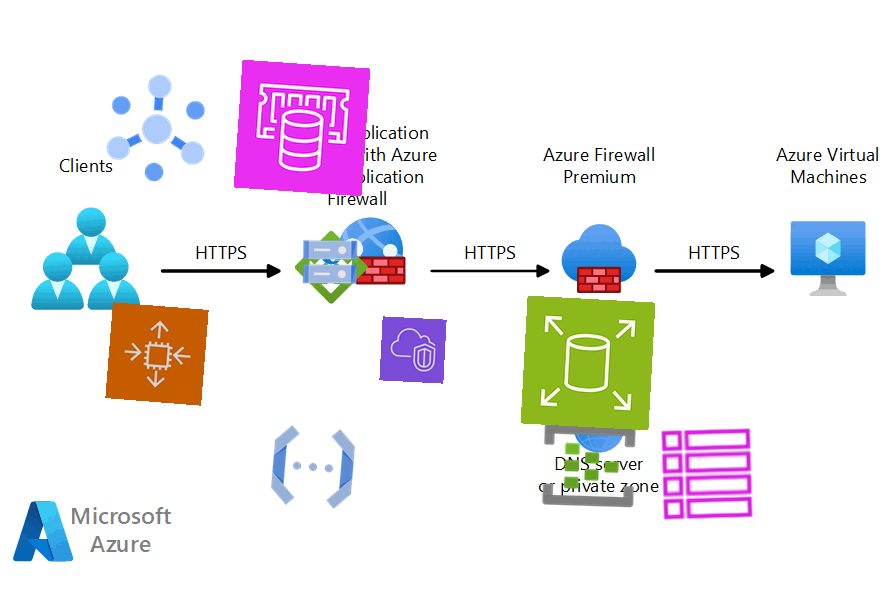aws_amazon_ec2_auto_scaling: (105, 302, 209, 406)
aws_amazon_elastic_block_store: (520, 295, 656, 431)
aws_amazon_elasticache: (233, 59, 371, 197)
aws_amazon_virtual_private_cloud: (379, 316, 447, 384)
aws_dynamodb_table: (657, 424, 757, 524)
azure_event_hubs: (539, 415, 639, 515)
gcp_cloud_functions: (261, 415, 365, 519)
gcp_cloud_storage: (297, 229, 363, 295)
gcp_pubsub: (88, 59, 226, 197)
